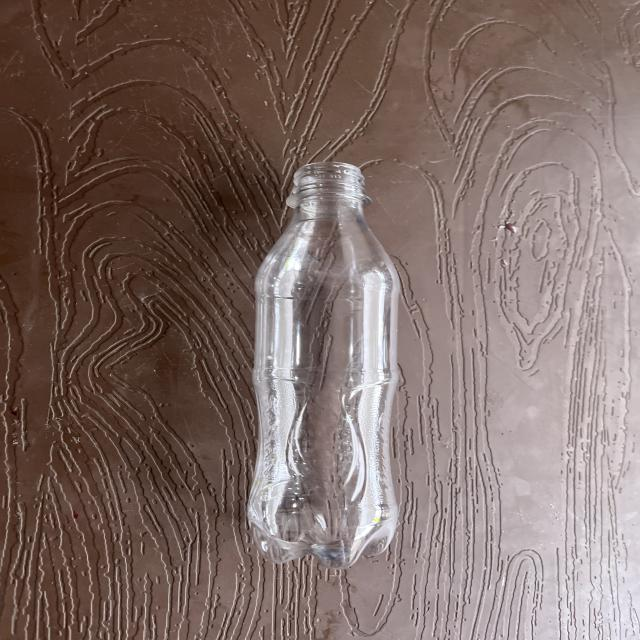PET_ClearBottle: (231, 159, 420, 634)
